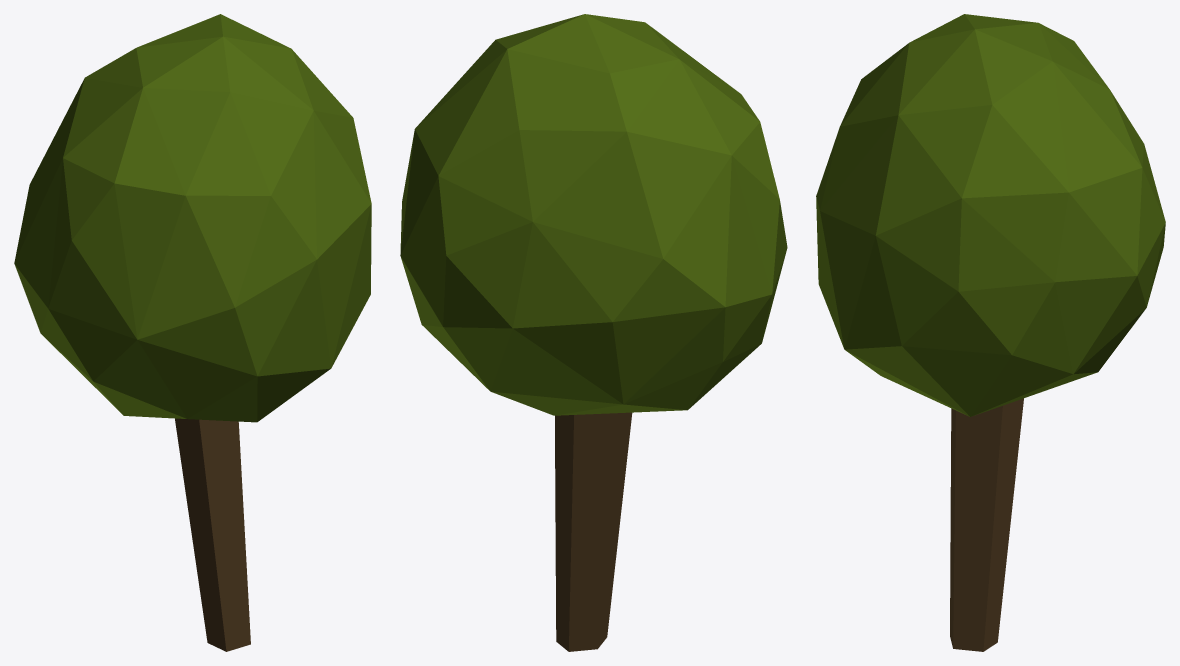
File: TreesAndBushes_034.fbx
3 renders of one model, left to right at view 1: azimuth 30°, elevation 25°; view 2: azimuth 150°, elevation 25°; view 3: azimuth 270°, elevation 25°, orthographic. The views are drawn at different scales.
Visible parts, largest first — view 1: TreesAndBushes_034; view 2: TreesAndBushes_034; view 3: TreesAndBushes_034.
Boxes of the visible parts, x1=… form: TreesAndBushes_034: x1=14, y1=14, x2=371, y2=651; TreesAndBushes_034: x1=400, y1=14, x2=787, y2=651; TreesAndBushes_034: x1=816, y1=14, x2=1165, y2=651.
Bounding box in the file's own units: 26.86 × 48.94 × 25.38.
